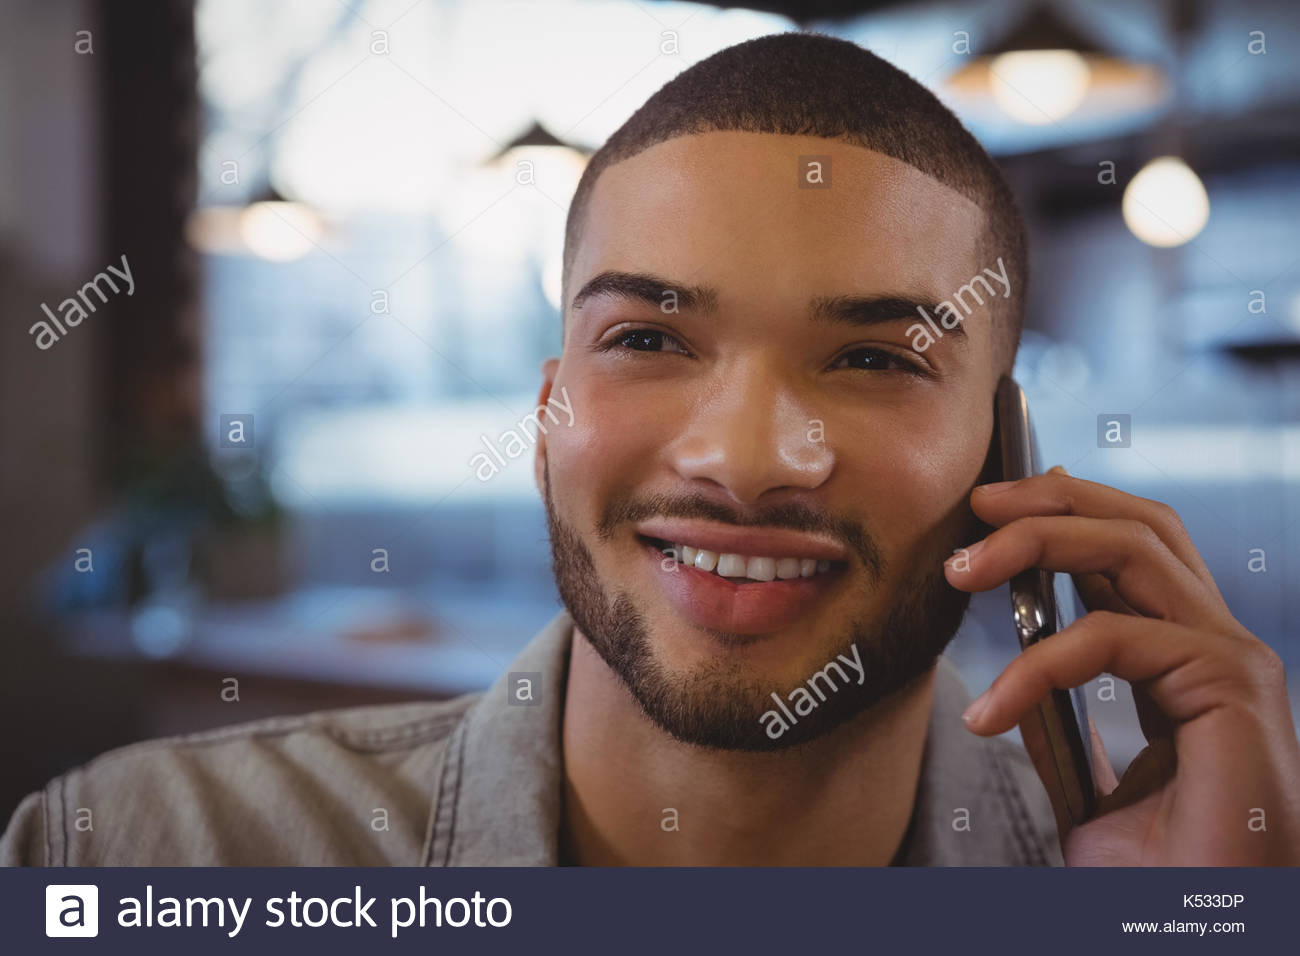phone: (982, 370, 1145, 781)
talk: (541, 253, 1298, 875)
